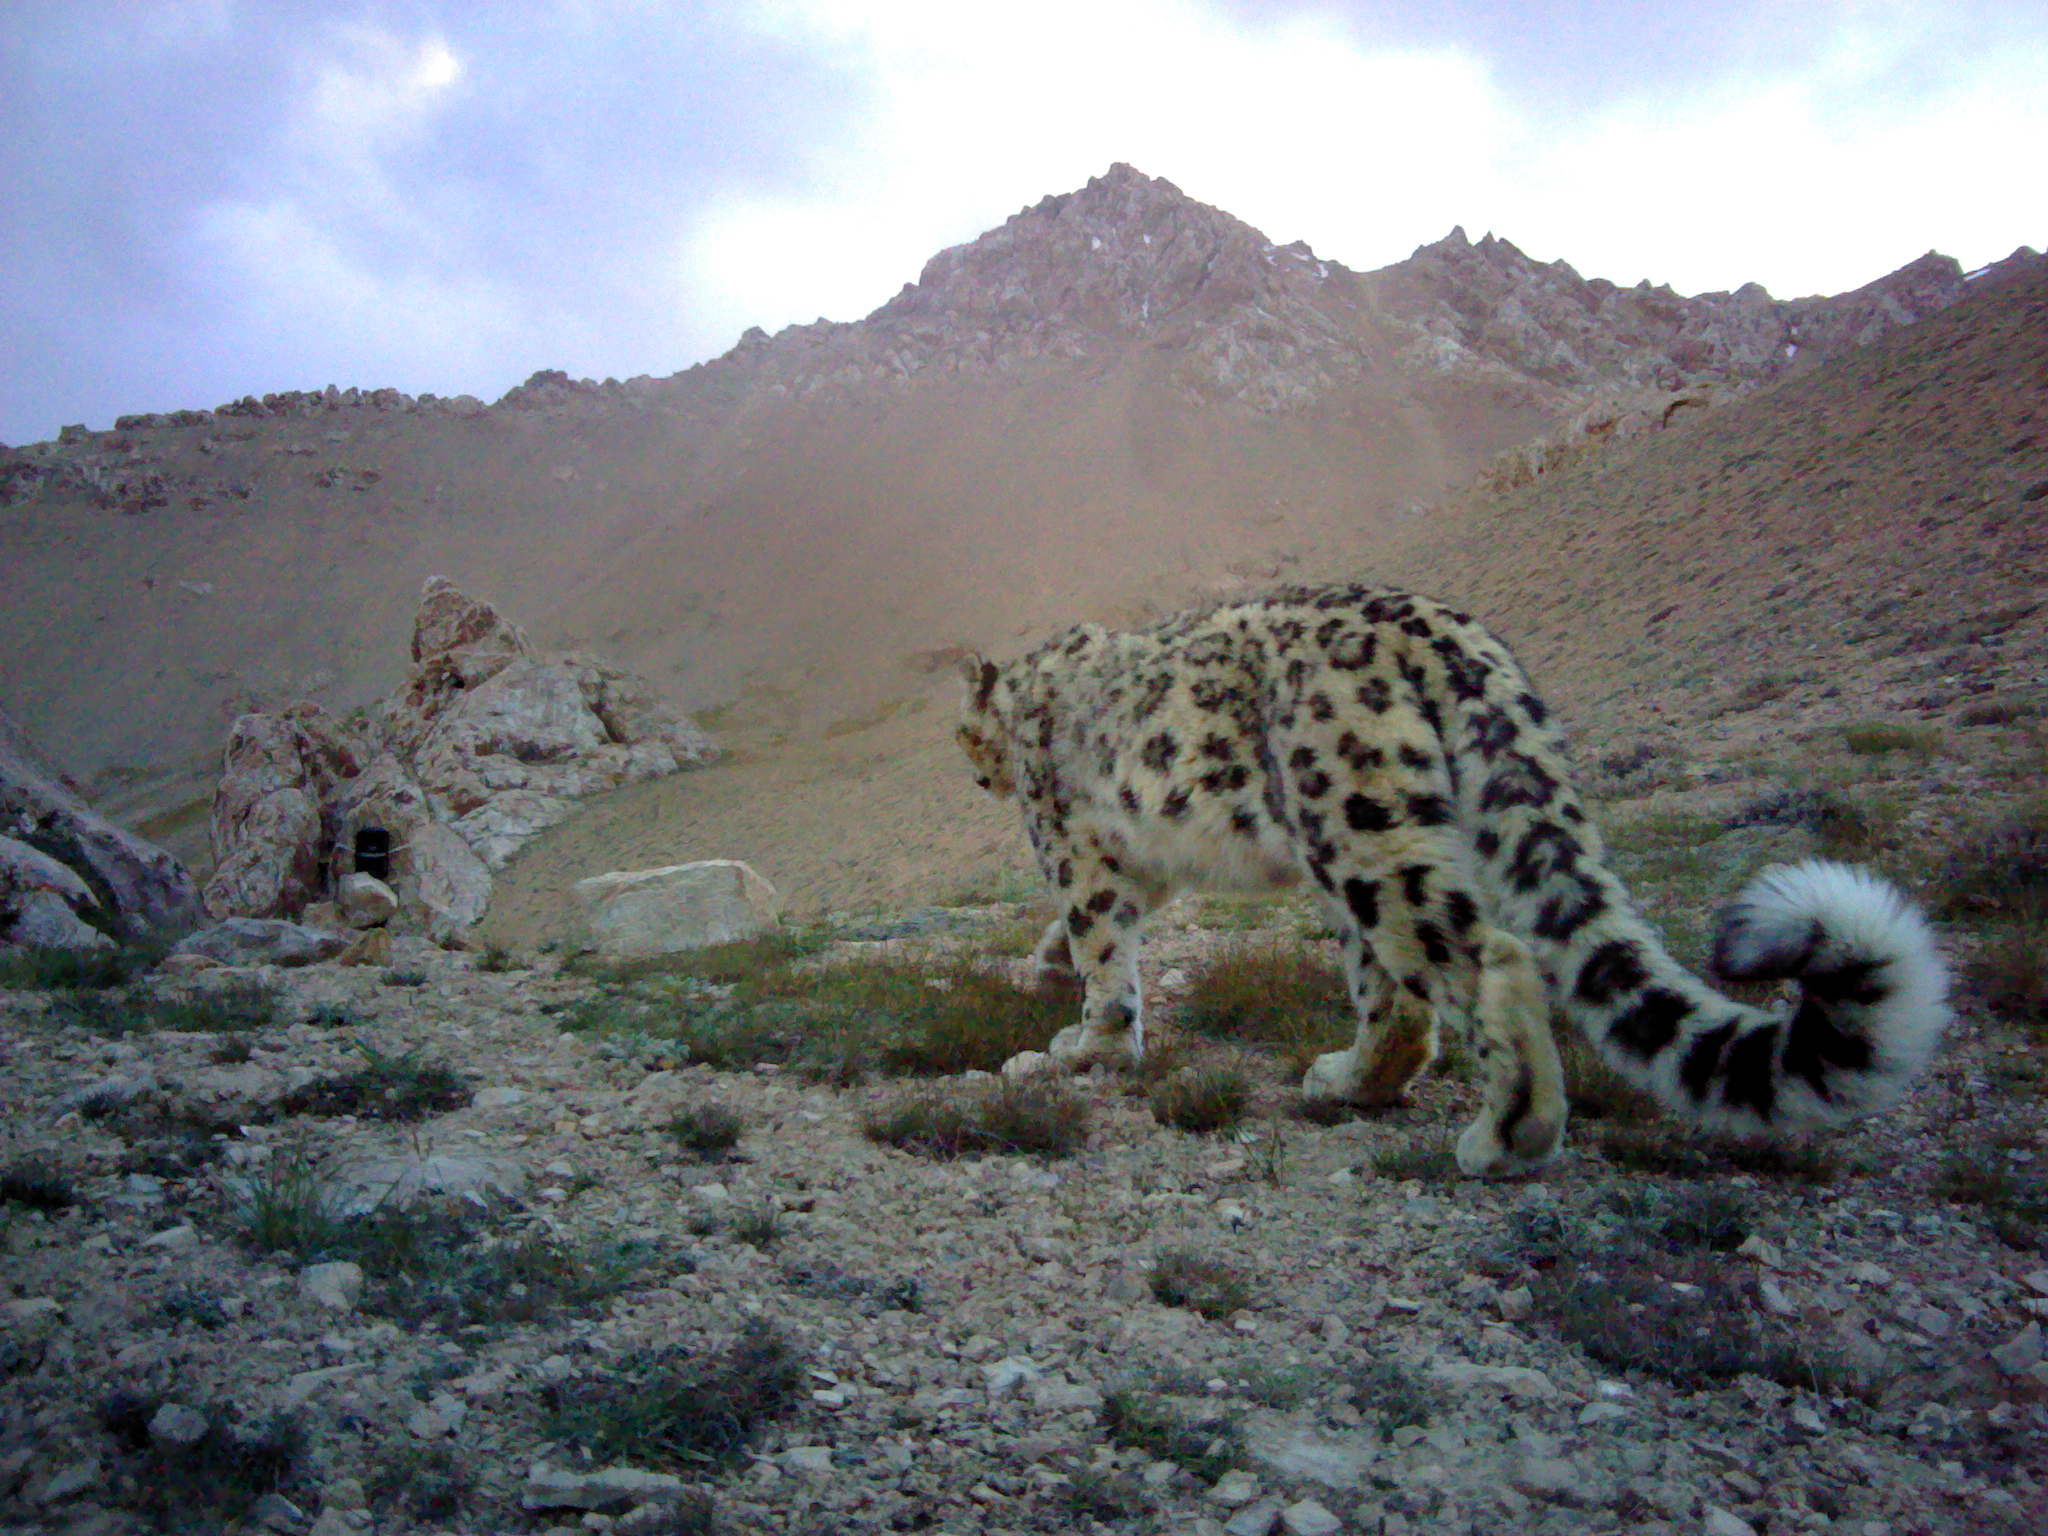Leopard: (927, 553, 1988, 1212)
